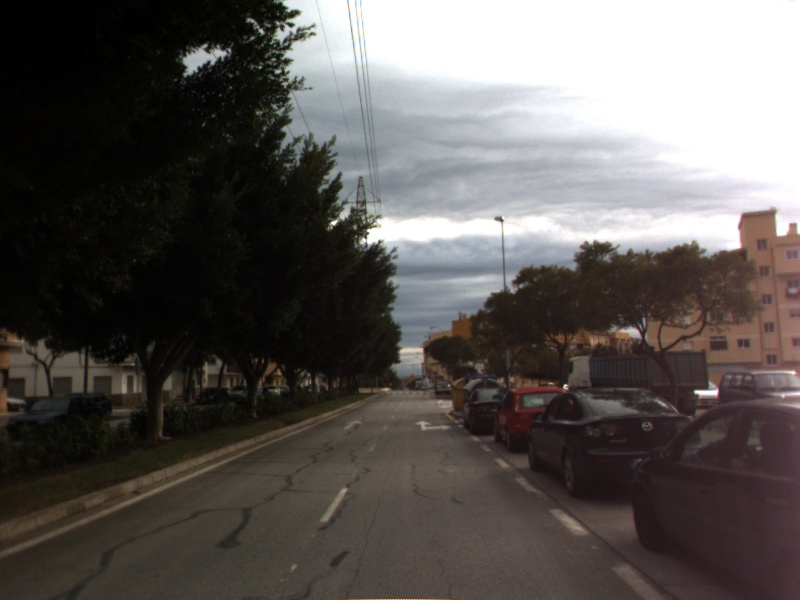STRAIGHT: (341, 417, 365, 432)
STRAIGHT_RIGHT: (412, 418, 455, 433)
